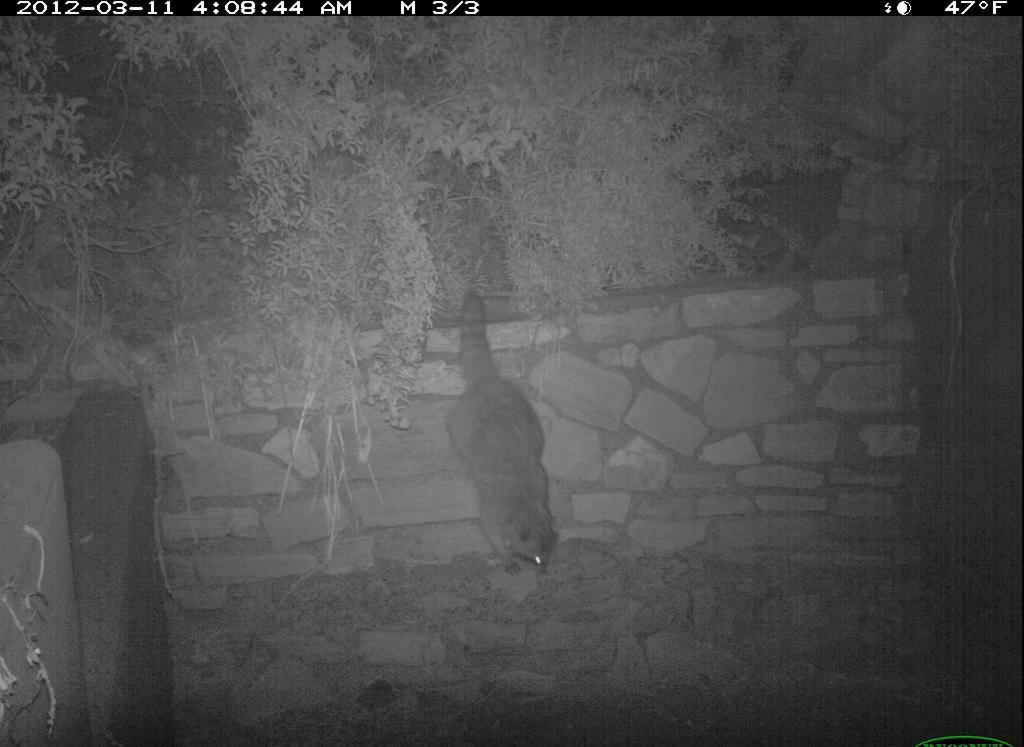raccoon: (436, 294, 589, 582)
